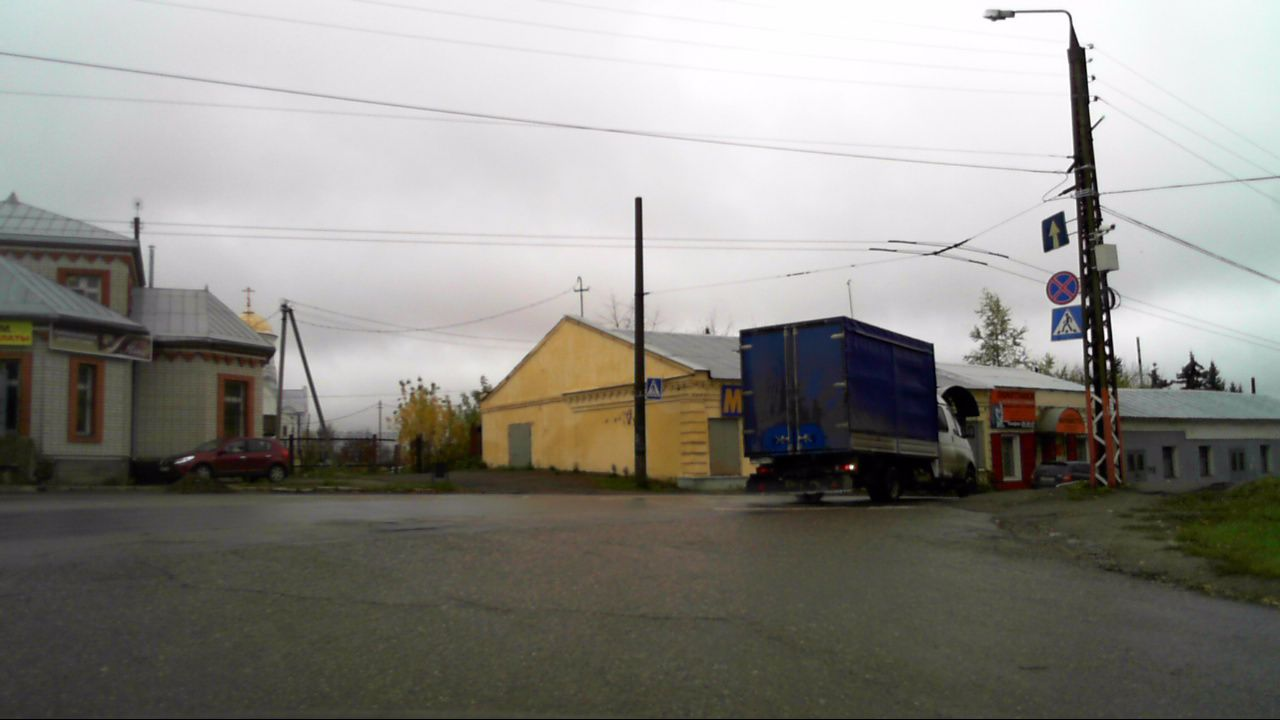No Parking: (1046, 271, 1079, 305)
